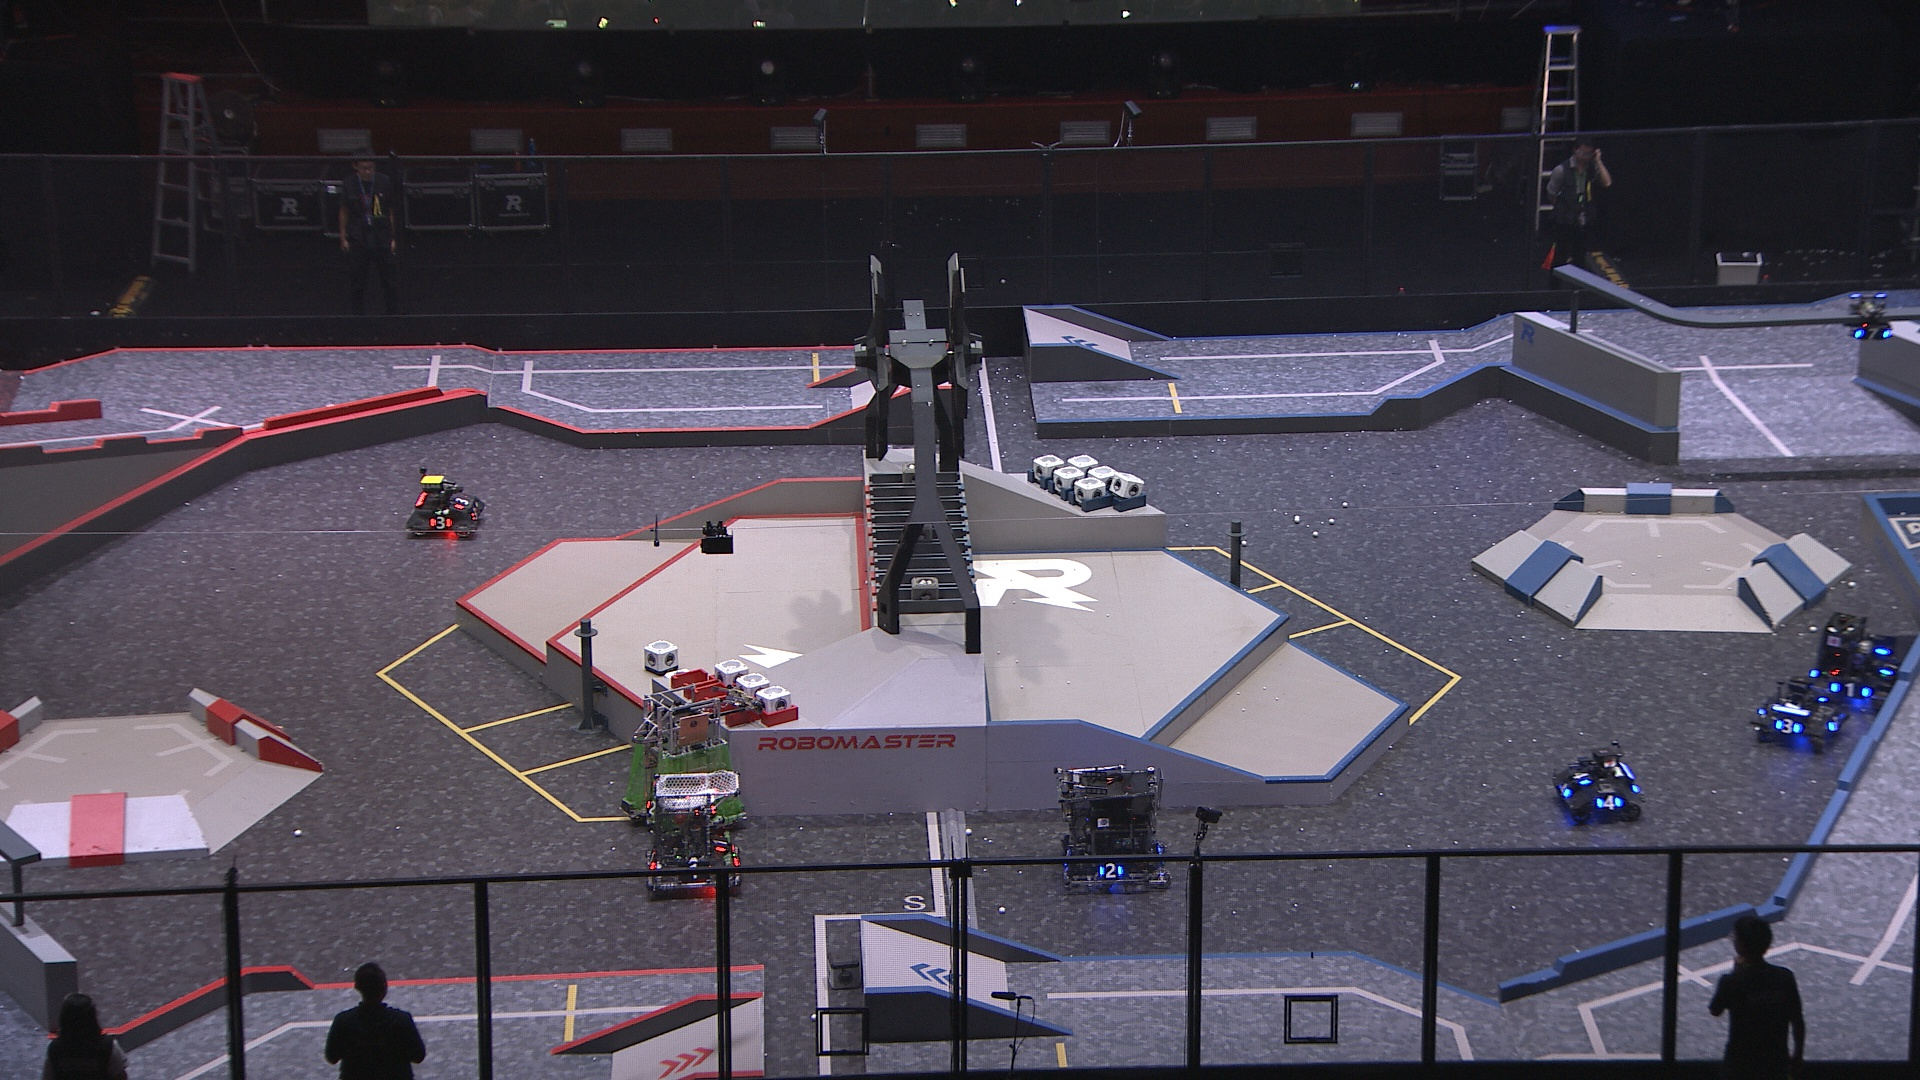armor: (1832, 679, 1874, 700), (1876, 657, 1904, 680), (1594, 793, 1626, 812), (1096, 861, 1126, 880), (1854, 327, 1892, 342), (1774, 717, 1803, 736), (1571, 767, 1594, 789), (712, 832, 731, 856), (429, 516, 455, 531), (1826, 713, 1845, 735), (647, 847, 661, 874), (1557, 781, 1575, 798), (452, 495, 471, 510), (645, 799, 659, 816)
car: (617, 683, 752, 833), (1058, 764, 1172, 891), (645, 771, 744, 898), (1808, 611, 1909, 708), (1751, 671, 1851, 754), (1551, 744, 1647, 829), (405, 469, 487, 543)
watcher: (1846, 291, 1894, 343)
